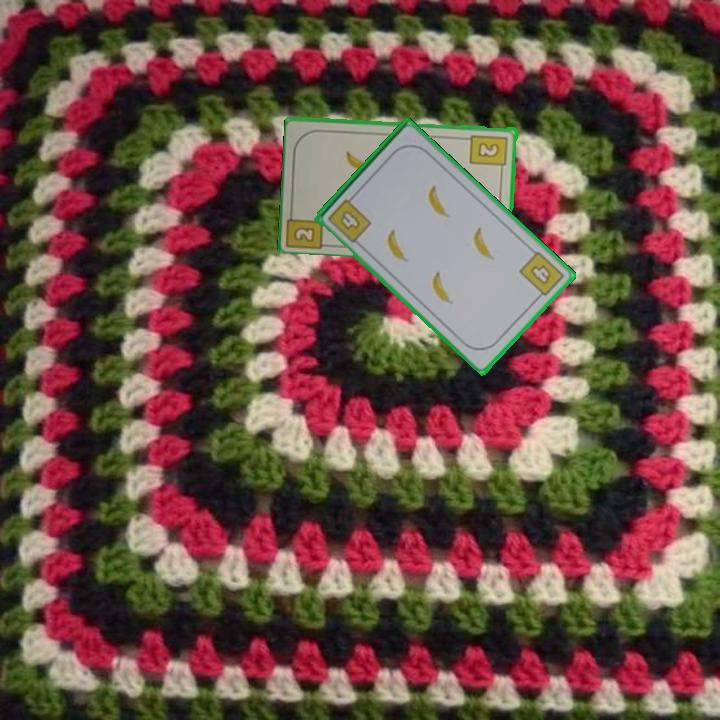2b: (285, 204, 327, 250), (467, 131, 510, 174)
4b: (516, 247, 567, 303), (324, 191, 375, 246)
